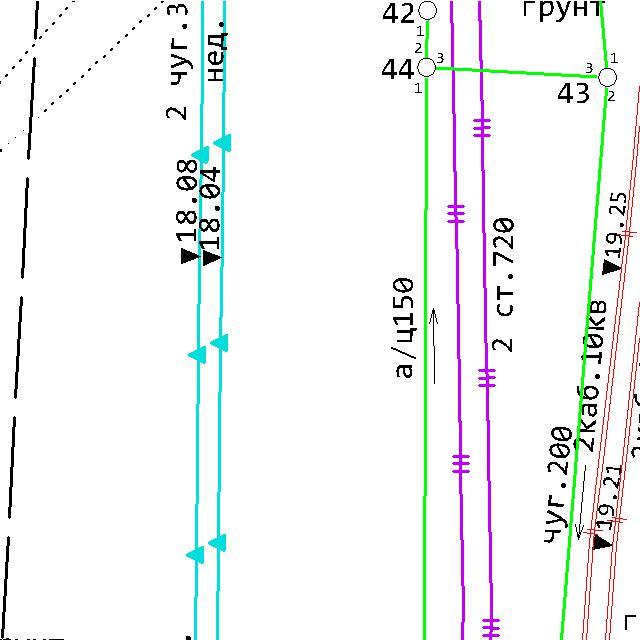mark: (591, 532, 614, 552), (178, 247, 202, 266), (201, 248, 224, 267), (600, 257, 623, 276)
well: (596, 66, 619, 90), (415, 56, 438, 79), (416, 0, 438, 22)
